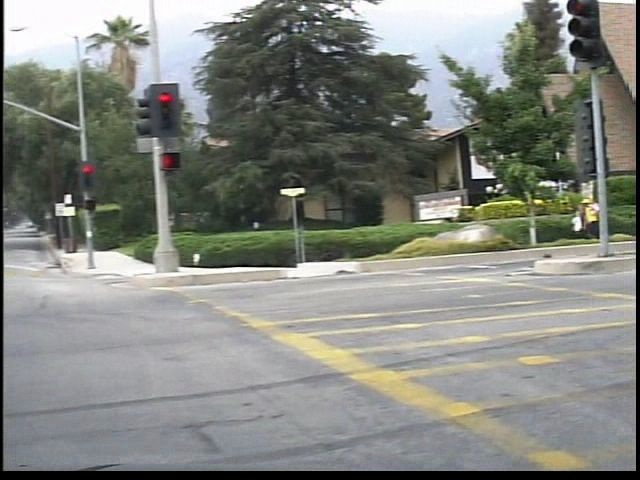person: (589, 188, 612, 243)
